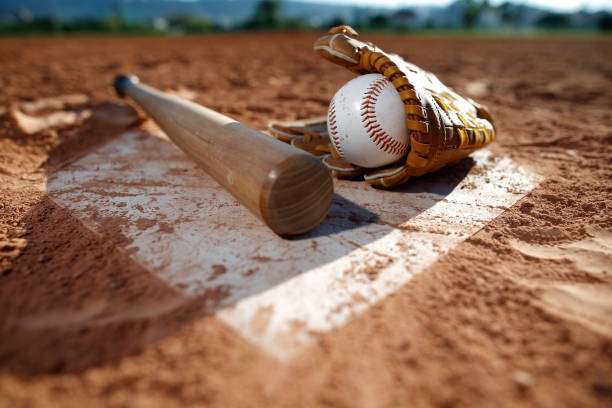bita: (113, 69, 333, 234)
